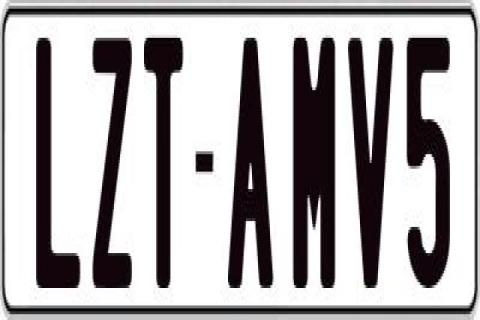0: (406, 32, 454, 291)
A: (228, 29, 271, 294)
L: (34, 35, 84, 291)
M: (290, 35, 334, 299)
T: (144, 38, 184, 302)
V: (346, 35, 396, 303)
Z: (92, 38, 132, 302)
